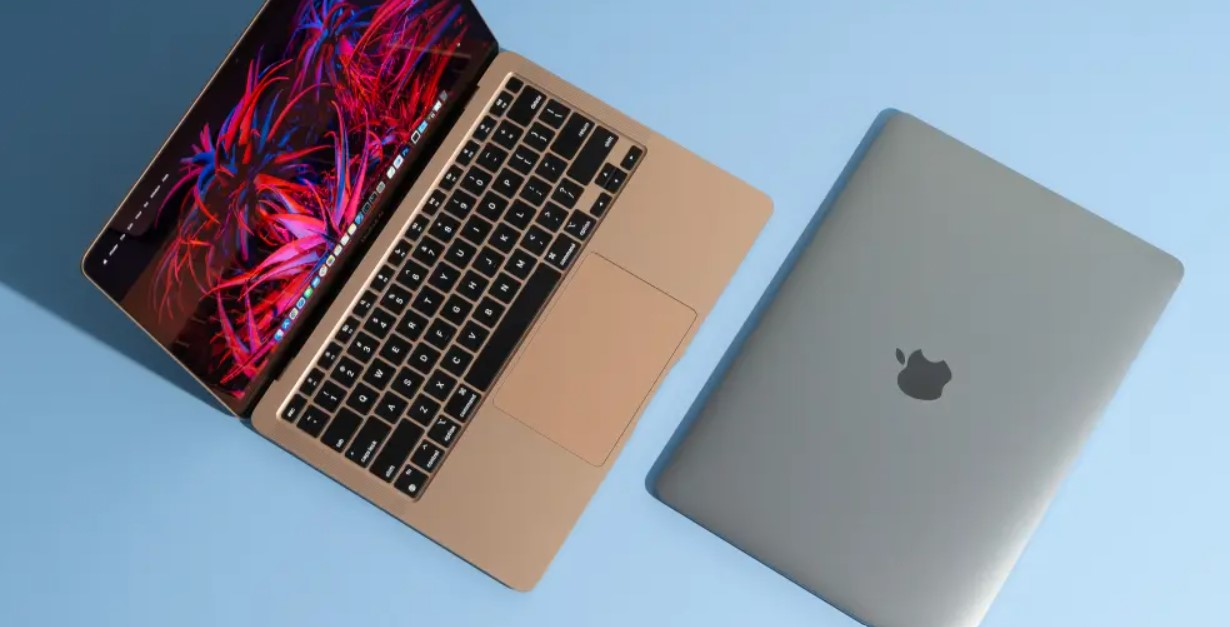laptops: (47, 11, 778, 602), (665, 111, 1181, 624)
